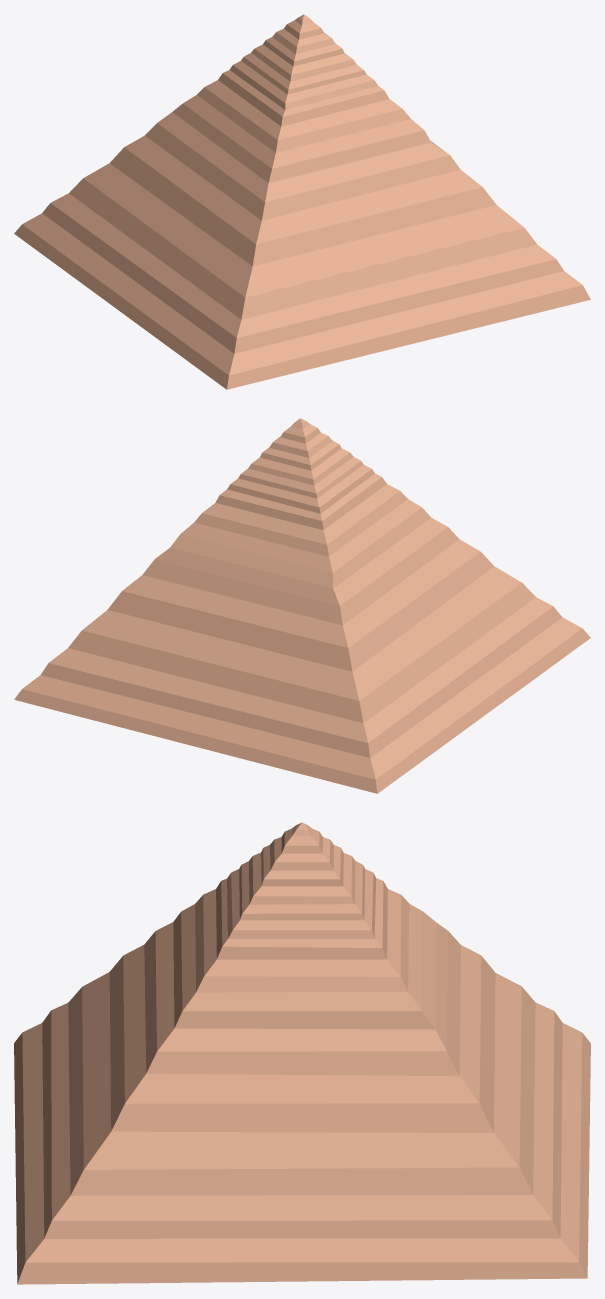
3 renders of one model, top to bottom at view 1: azimuth 30°, elevation 25°; view 2: azimuth 150°, elevation 25°; view 3: azimuth 270°, elevation 25°, orthographic. The views are drawn at different scales.
Parts seen in each view (by area): view 1: Cube.001; view 2: Cube.001; view 3: Cube.001.
Boxes of the visible parts, box(x1,y1,x2,y2) form: Cube.001: box(14, 14, 590, 389); Cube.001: box(14, 418, 590, 793); Cube.001: box(14, 822, 590, 1284).
Size of the model in its own units: 166 by 110 by 167.
